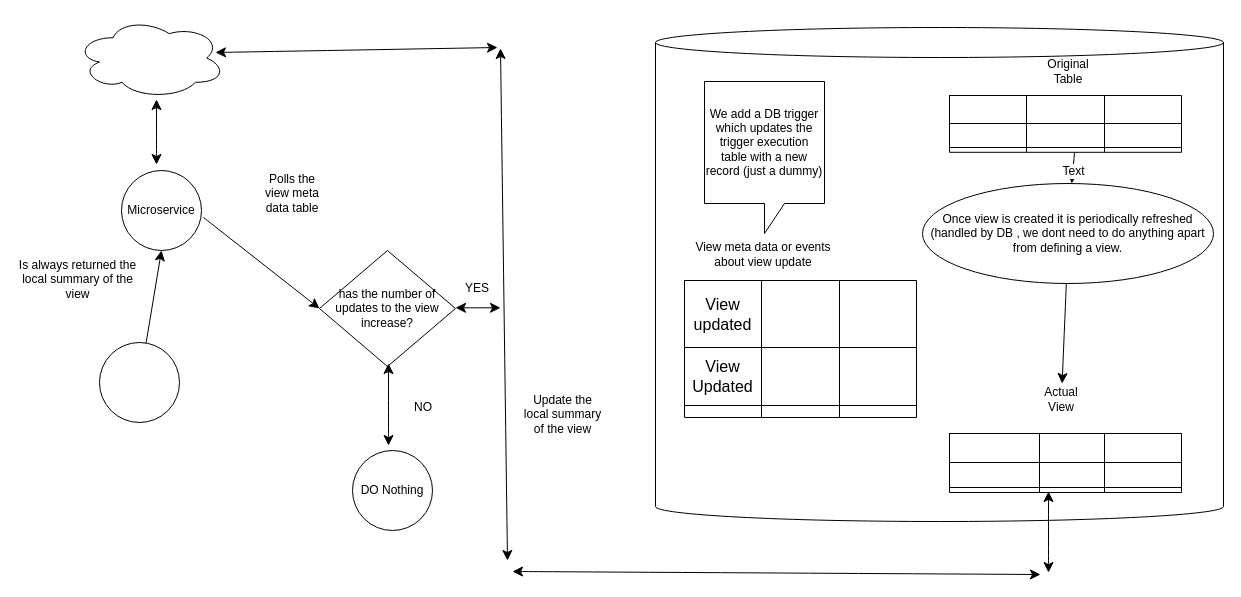
This 1241x597 diagram has some shape labels left out. The centre of each missing label's shape, as x and y in pixels:
"Copy or summary of information in view" goes at (x=150, y=57).
"UI" goes at (x=139, y=382).
